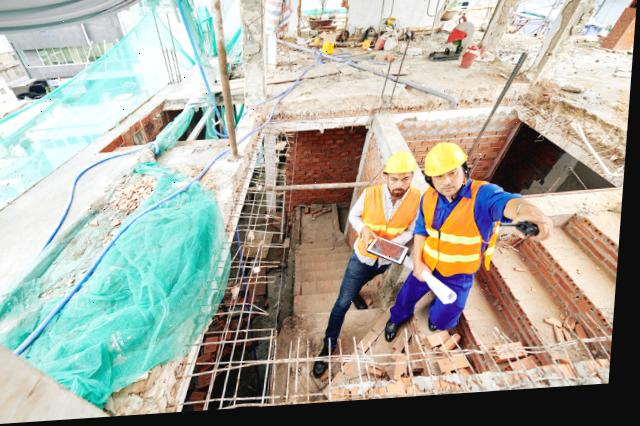helmet: (423, 145, 472, 183), (381, 152, 425, 182)
vest: (424, 187, 510, 282), (357, 189, 422, 278)
